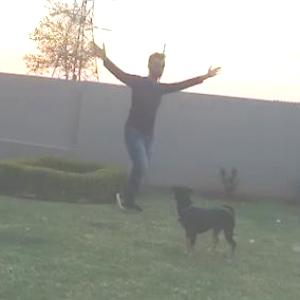takeoff: (88, 42, 216, 206)
